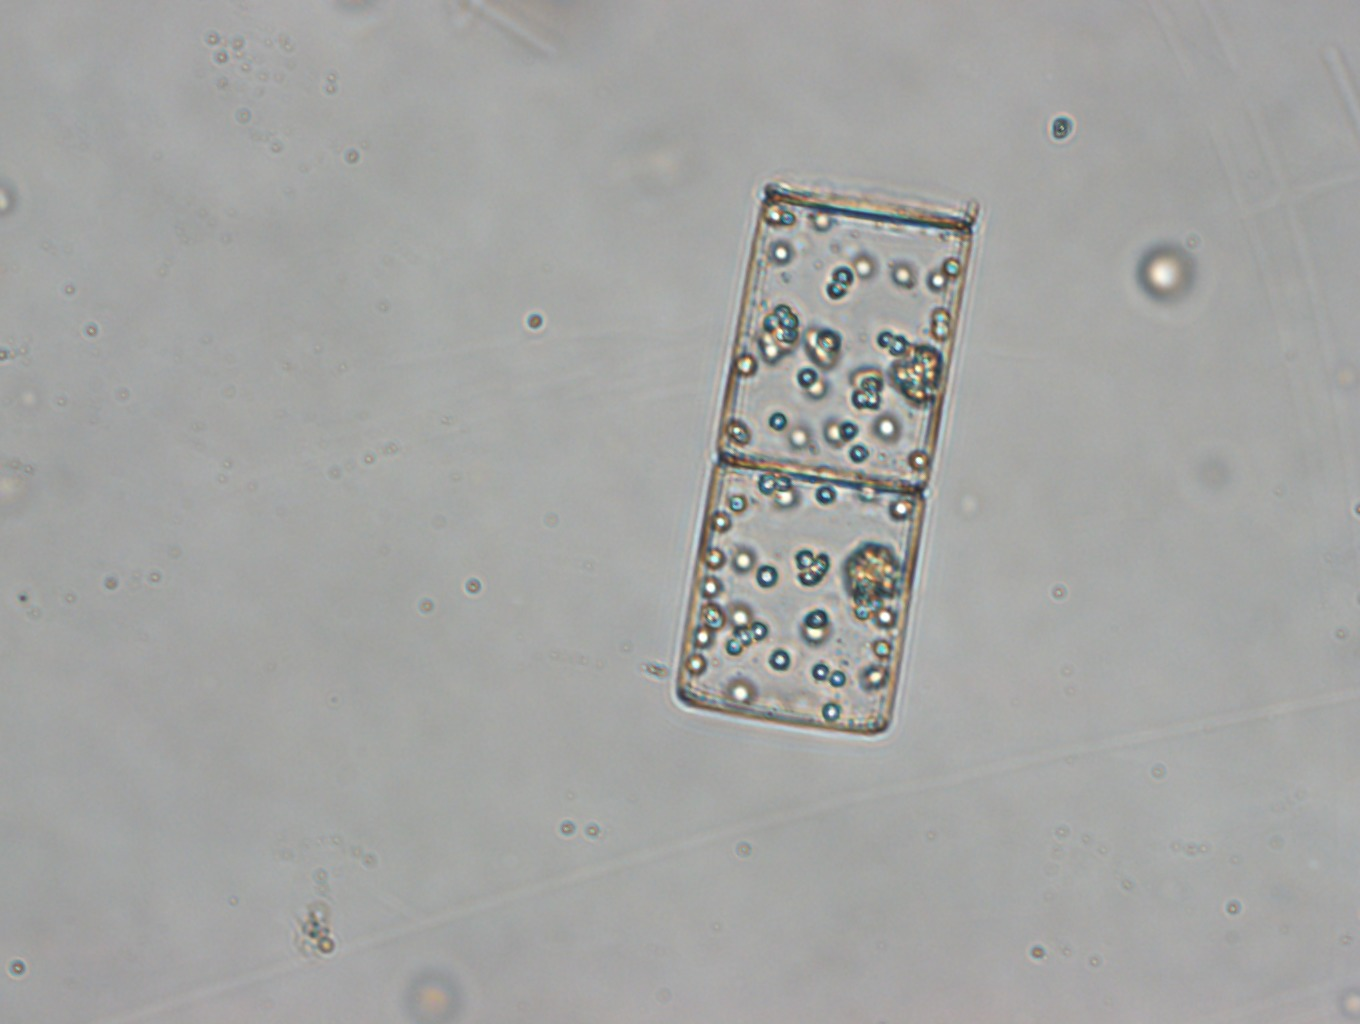guinardia flaccida: (669, 175, 983, 739)
